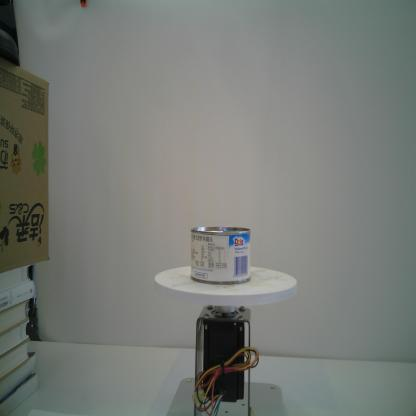Canned Food: (190, 226, 251, 286)
